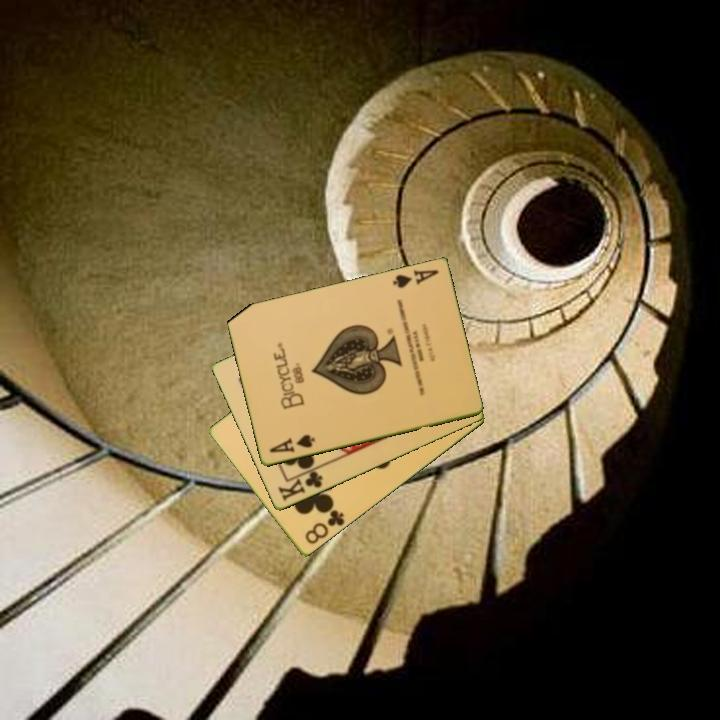8c: (301, 504, 347, 548)
As: (266, 431, 318, 456), (389, 267, 441, 291)
Kc: (274, 464, 326, 504)
